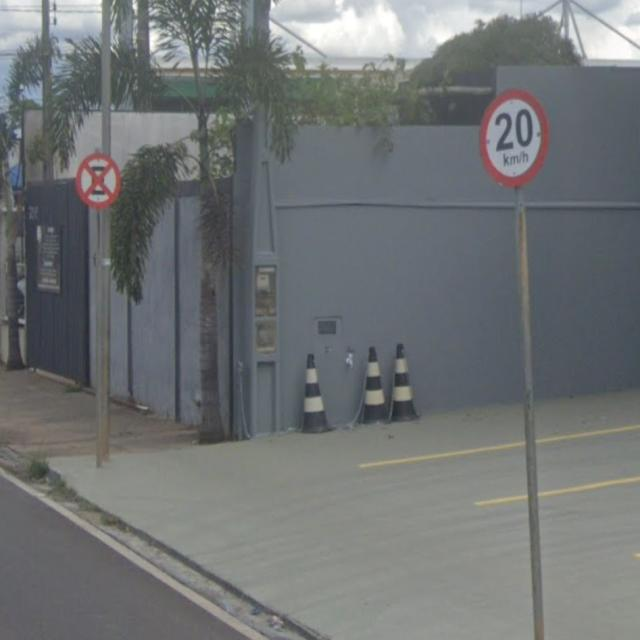no parking: (66, 140, 131, 223)
speed limit: (473, 82, 554, 188)
